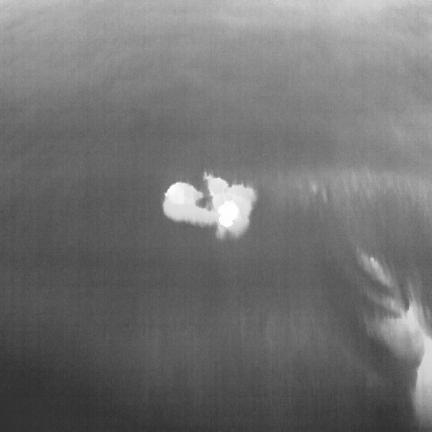flukeprints: (163, 174, 256, 235)
